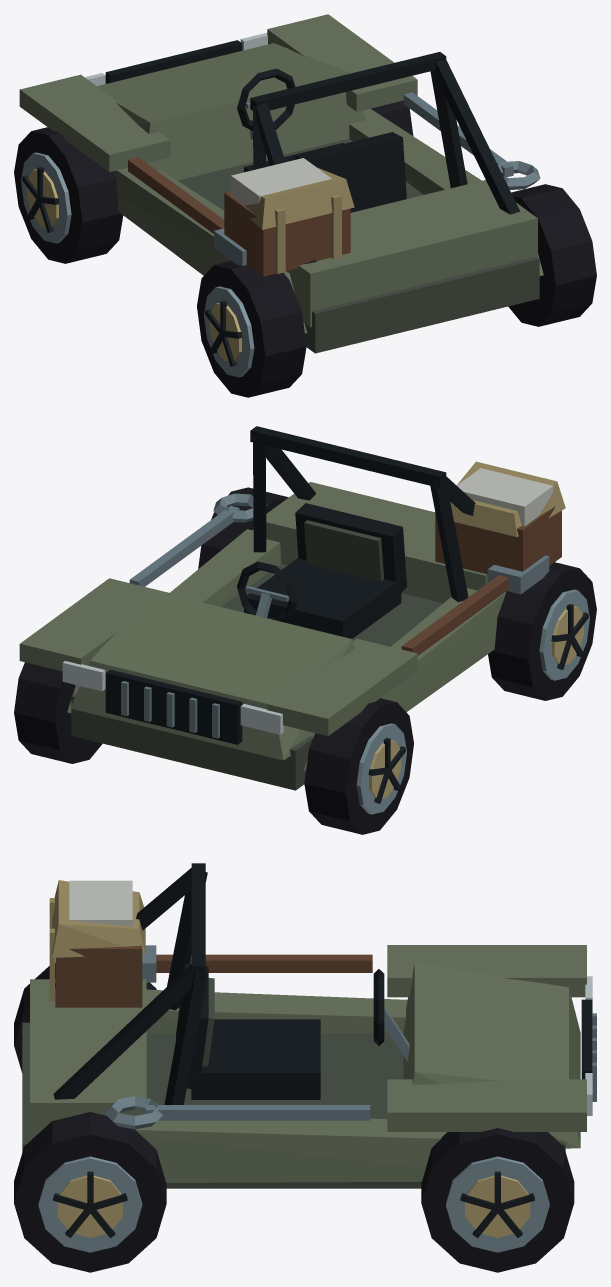
Rendered from kart.glb.
3 renders of one model, top to bottom at view 1: azimuth 30°, elevation 25°; view 2: azimuth 150°, elevation 25°; view 3: azimuth 270°, elevation 25°, orthographic. The views are drawn at different scales.
Visible parts, largest first — view 1: identity-jeep-jeep-offroad-frame, wheel-rear-left, wheel-front-left, identity-jeep-motif-treasure, wheel-rear-right, identity-jeep-driver-cockpit, identity-jeep-motif-tools, identity-jeep-motif-medical, wheel-front-right; view 2: identity-jeep-jeep-offroad-frame, identity-jeep-driver-cockpit, wheel-front-left, wheel-rear-left, identity-jeep-motif-treasure, identity-jeep-motif-tools, wheel-front-right, identity-jeep-motif-medical, wheel-rear-right; view 3: identity-jeep-jeep-offroad-frame, wheel-rear-right, wheel-front-right, identity-jeep-driver-cockpit, identity-jeep-motif-treasure, identity-jeep-motif-tools, identity-jeep-motif-medical, wheel-rear-left.
Part boxes in pixels (x1,y1,x2,y2): identity-jeep-jeep-offroad-frame: [19, 14, 543, 353]; wheel-rear-left: [197, 261, 306, 397]; wheel-front-left: [14, 127, 123, 263]; identity-jeep-motif-treasure: [224, 167, 354, 276]; wheel-rear-right: [508, 184, 596, 326]; identity-jeep-driver-cockpit: [237, 68, 406, 212]; identity-jeep-motif-tools: [128, 92, 540, 265]; identity-jeep-motif-medical: [231, 158, 331, 205]; wheel-front-right: [370, 100, 413, 135]; identity-jeep-jeep-offroad-frame: [19, 426, 505, 790]; identity-jeep-driver-cockpit: [237, 503, 406, 638]; wheel-front-left: [304, 698, 413, 834]; wheel-rear-left: [488, 562, 596, 700]; identity-jeep-motif-treasure: [435, 461, 565, 576]; identity-jeep-motif-tools: [129, 493, 549, 655]; wheel-front-right: [14, 662, 102, 763]; identity-jeep-motif-medical: [457, 468, 553, 526]; wheel-rear-right: [198, 487, 288, 569]; identity-jeep-jeep-offroad-frame: [22, 863, 596, 1188]; wheel-rear-right: [14, 1112, 166, 1272]; wheel-front-right: [421, 1128, 574, 1272]; identity-jeep-driver-cockpit: [176, 964, 409, 1099]; identity-jeep-motif-treasure: [49, 880, 145, 1007]; identity-jeep-motif-tools: [104, 945, 372, 1129]; identity-jeep-motif-medical: [69, 880, 132, 926]; wheel-rear-left: [14, 963, 156, 1072].
Size of the model in its own units: 2.13 by 1.39 by 2.75.
